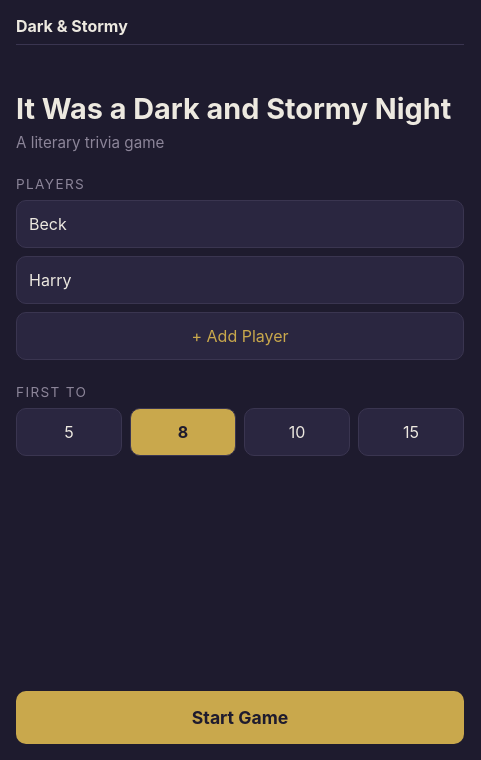
Test: App › transitions to draw phase after starting a game
This screenshot has width=481, height=760.
Click the button "Start Game".
click(240, 718)  # box [16,691,464,744]
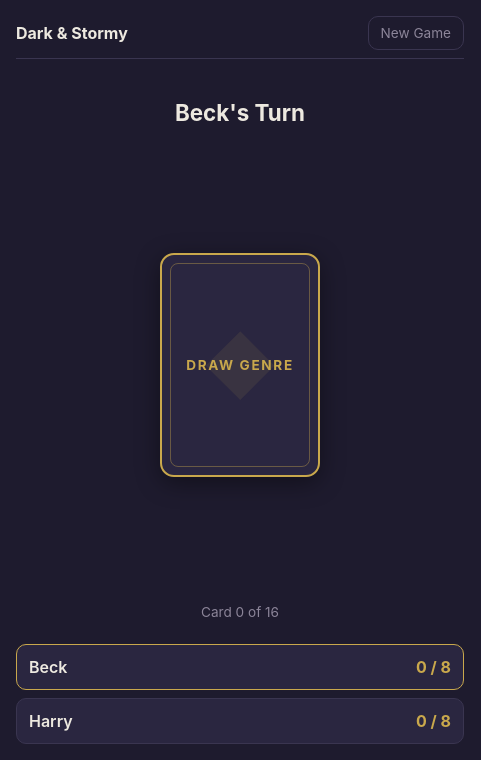
Expected: the text "Draw Genre" is shown, [186,357,294,373]
